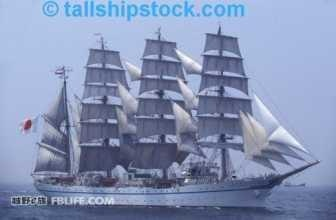fanchuan: (22, 24, 323, 201)
